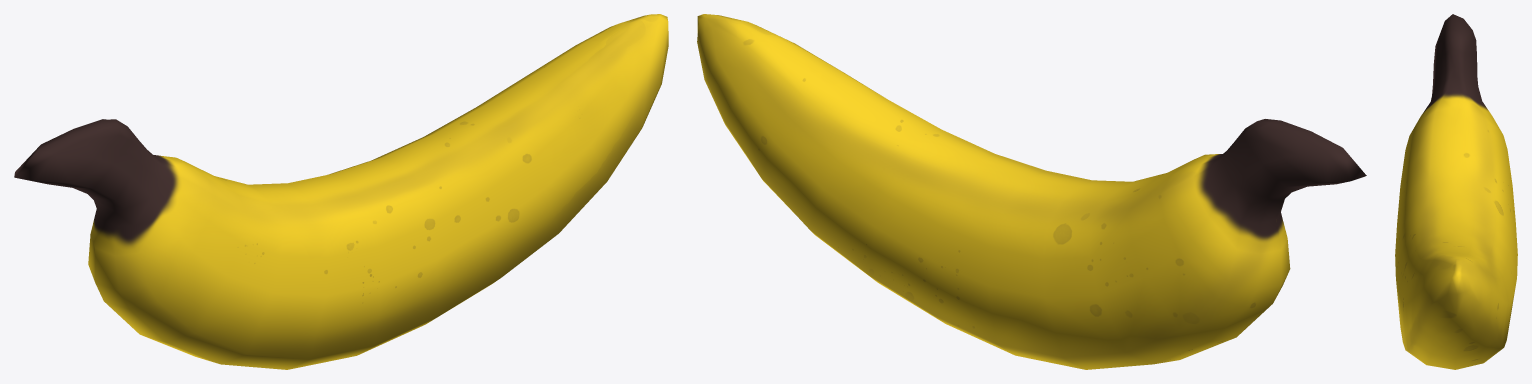
The model's file is banana.obj.
3 renders of one model, left to right at view 1: azimuth 30°, elevation 25°; view 2: azimuth 150°, elevation 25°; view 3: azimuth 270°, elevation 25°, orthographic. The views are drawn at different scales.
Parts seen in each view (by area): view 1: banana; view 2: banana; view 3: banana.
Boxes of the visible parts, box(x1,y1,x2,y2) form: banana: box(14, 14, 668, 369); banana: box(697, 14, 1366, 369); banana: box(1395, 14, 1517, 369).
Bounding box in the file's own units: 1.5 × 0.6181 × 0.3061.
1 material, 1 textured.
